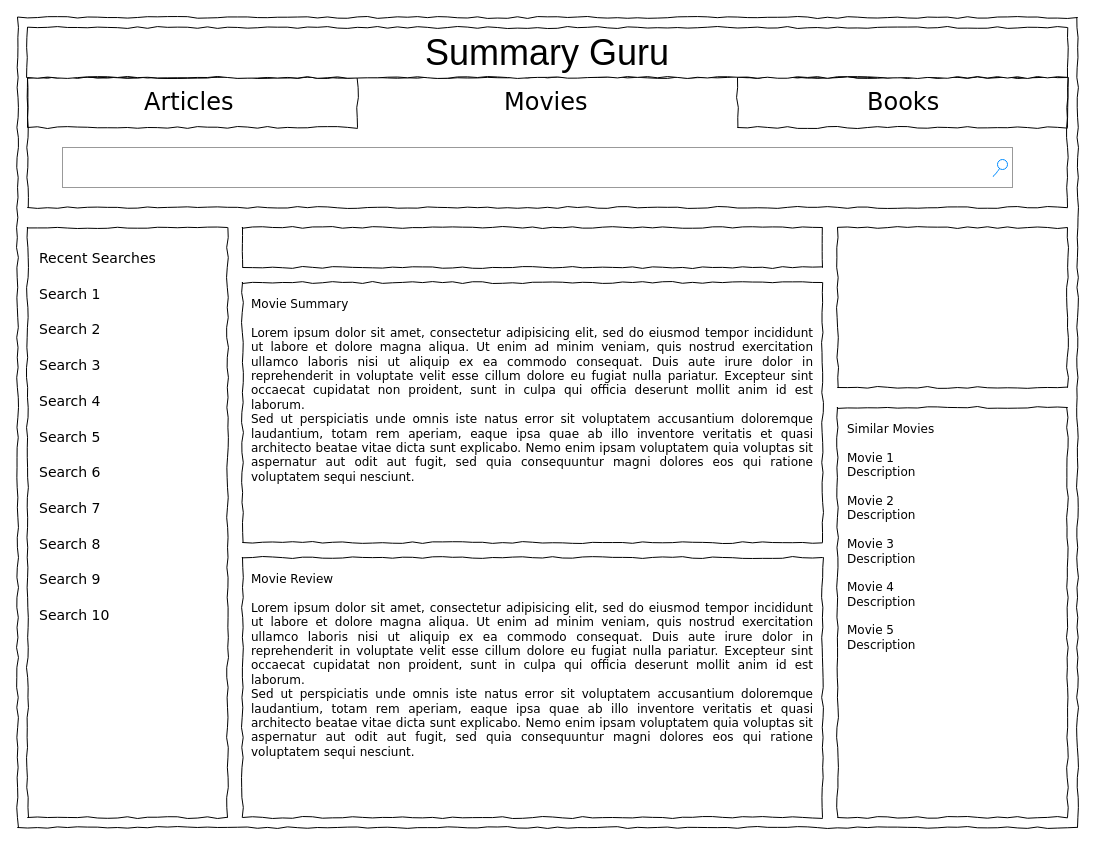
The diagram is 1095 pixels wide and 845 high, and some of its shapes have lost their labels. Here are the shapes that lost their labels. From the top down, the centre of each, then its label:
point (537, 167): Search
point (532, 247): Movie Title
point (952, 307): Guru Says: "1 Word Review"
